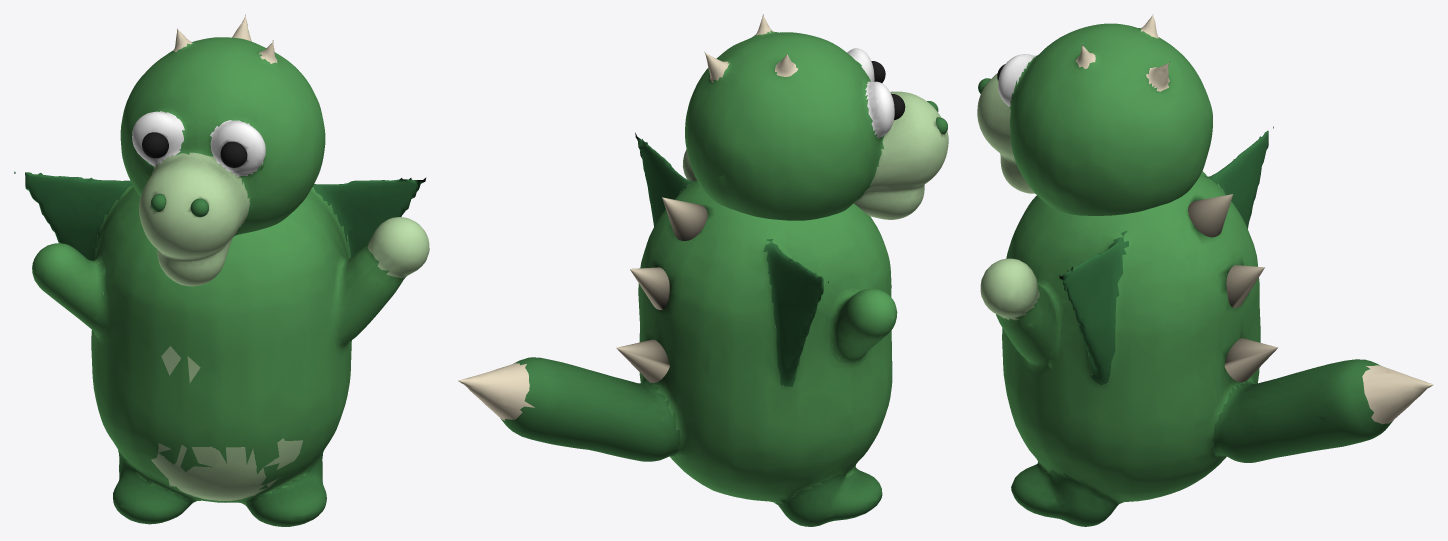
Rendered from ha-det-bra.glb.
3 views of the same model, side by side, from view 1: azimuth 30°, elevation 25°; view 2: azimuth 150°, elevation 25°; view 3: azimuth 270°, elevation 25° (orthographic).
Parts seen in each view (by area): view 1: dragao-corpo__r0, dragao-cabeca__r0, dragao-cabeca__r6, dragao-cabeca__r4; view 2: dragao-corpo__r0, dragao-cabeca__r0, dragao-corpo__r3, dragao-corpo__r1, dragao-corpo__r2; view 3: dragao-corpo__r0, dragao-cabeca__r0, dragao-corpo__r3, dragao-corpo__r1, dragao-corpo__r2.
Boxes of the visible parts, left/top/right/bottom form: dragao-corpo__r0: left=14, top=171, right=429, bottom=526; dragao-cabeca__r0: left=120, top=14, right=325, bottom=286; dragao-cabeca__r6: left=220, top=141, right=247, bottom=167; dragao-cabeca__r4: left=142, top=132, right=168, bottom=158; dragao-corpo__r0: left=458, top=132, right=897, bottom=526; dragao-cabeca__r0: left=685, top=14, right=948, bottom=220; dragao-corpo__r3: left=616, top=339, right=669, bottom=382; dragao-corpo__r1: left=662, top=197, right=707, bottom=240; dragao-corpo__r2: left=630, top=267, right=669, bottom=309; dragao-corpo__r0: left=980, top=126, right=1433, bottom=526; dragao-cabeca__r0: left=977, top=15, right=1212, bottom=215; dragao-corpo__r3: left=1224, top=338, right=1278, bottom=382; dragao-corpo__r1: left=1188, top=194, right=1233, bottom=237; dragao-corpo__r2: left=1226, top=265, right=1264, bottom=308.
Bounding box in the file's own units: 1.11 × 1.54 × 1.35.
